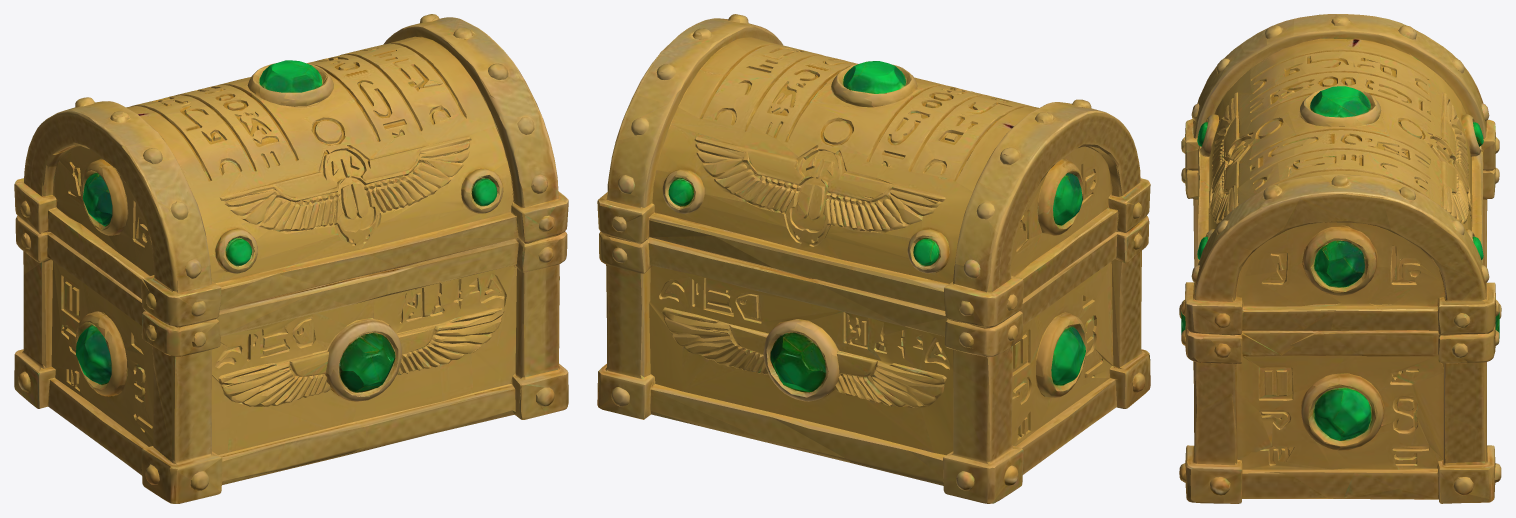
File: et_goldchest.glb
3 renders of one model, left to right at view 1: azimuth 30°, elevation 25°; view 2: azimuth 150°, elevation 25°; view 3: azimuth 270°, elevation 25°, orthographic. The views are drawn at different scales.
Bounding box in the file's own units: 1.9 × 1.46 × 1.34.
Materials: 1 (1 with a texture image).
